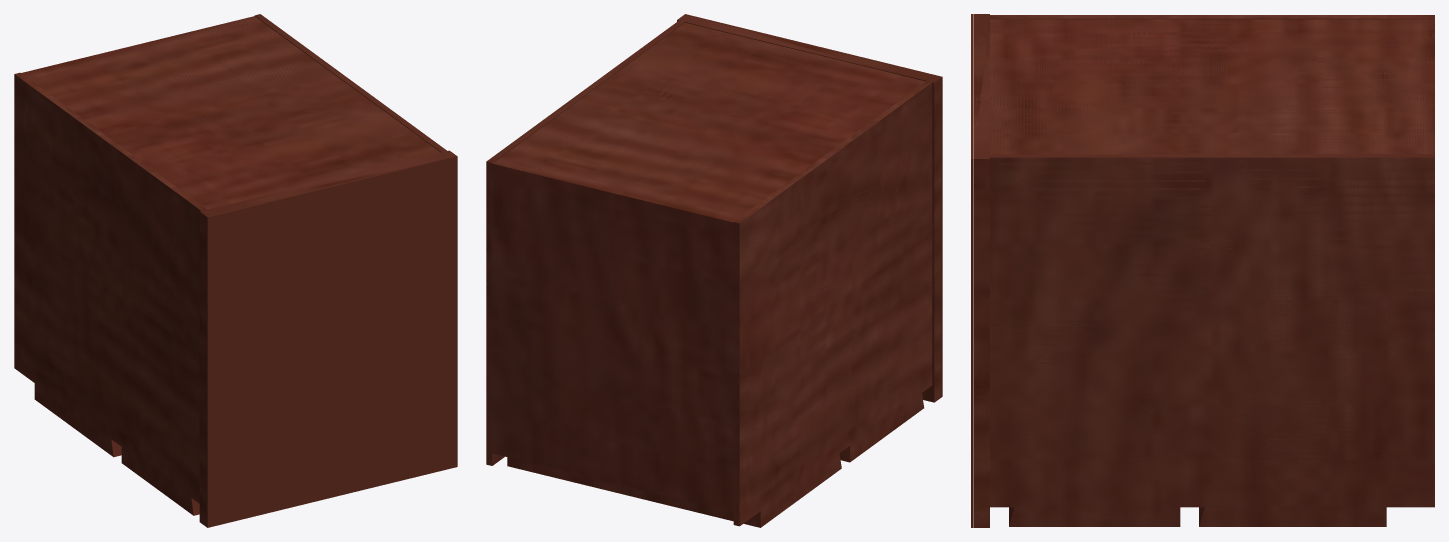
File: bedroom_nightstand.obj
3 renders of one model, left to right at view 1: azimuth 30°, elevation 25°; view 2: azimuth 150°, elevation 25°; view 3: azimuth 270°, elevation 25°, orthographic. The views are drawn at different scales.
Parts seen in each view (by area): view 1: bedroom_nightstand; view 2: bedroom_nightstand; view 3: bedroom_nightstand.
Boxes of the visible parts, x1=… form: bedroom_nightstand: x1=14, y1=14, x2=457, y2=527; bedroom_nightstand: x1=486, y1=14, x2=942, y2=527; bedroom_nightstand: x1=971, y1=14, x2=1434, y2=527.
Size of the model in its own units: 0.4064 by 0.4826 by 0.5495.
4 materials, 2 textured.
